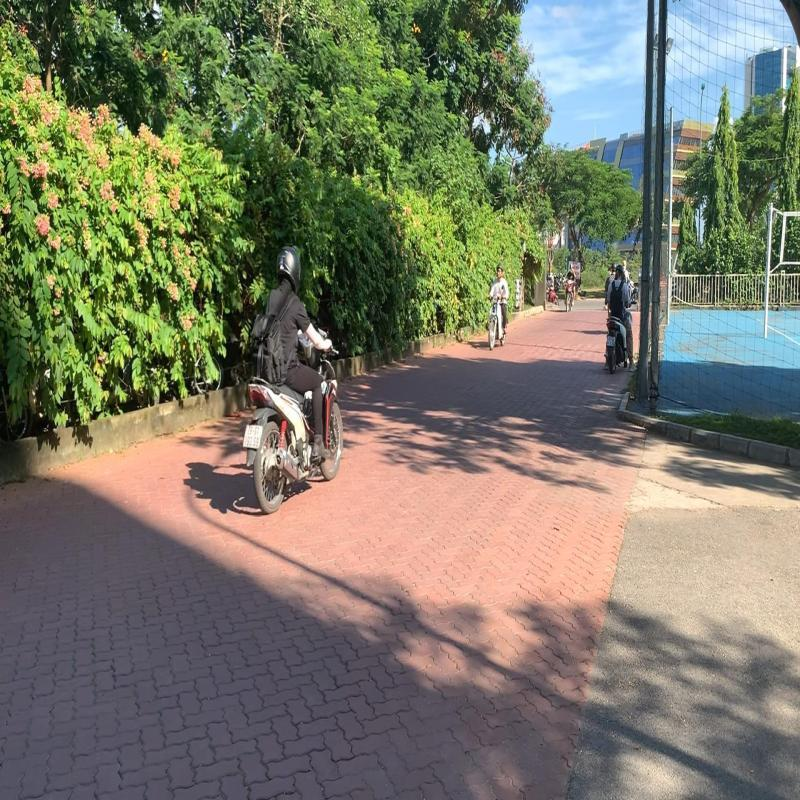helmet: (275, 247, 303, 294)
licenseplate: (241, 422, 264, 454)
motorcyclist: (241, 243, 346, 517)
